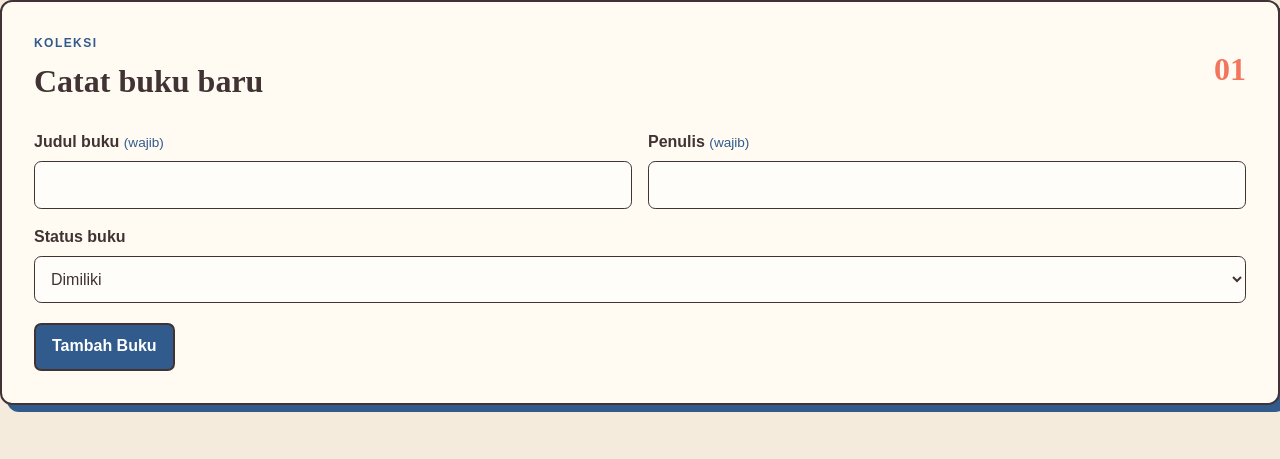
it: BookForm › menampilkan error jika penulis kosong
The image size is (1280, 459).
In the field labelled "Judul buku (wajib)": point(333, 185) [34, 161, 632, 209], type "Laut Bercerita"
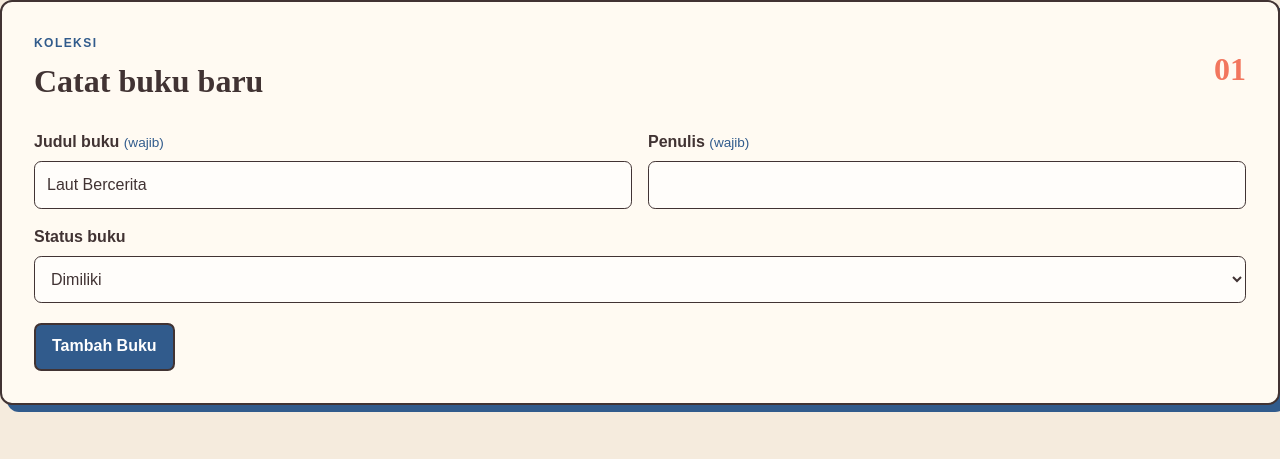
Click the button "Tambah Buku": point(104, 346) [34, 322, 175, 370]
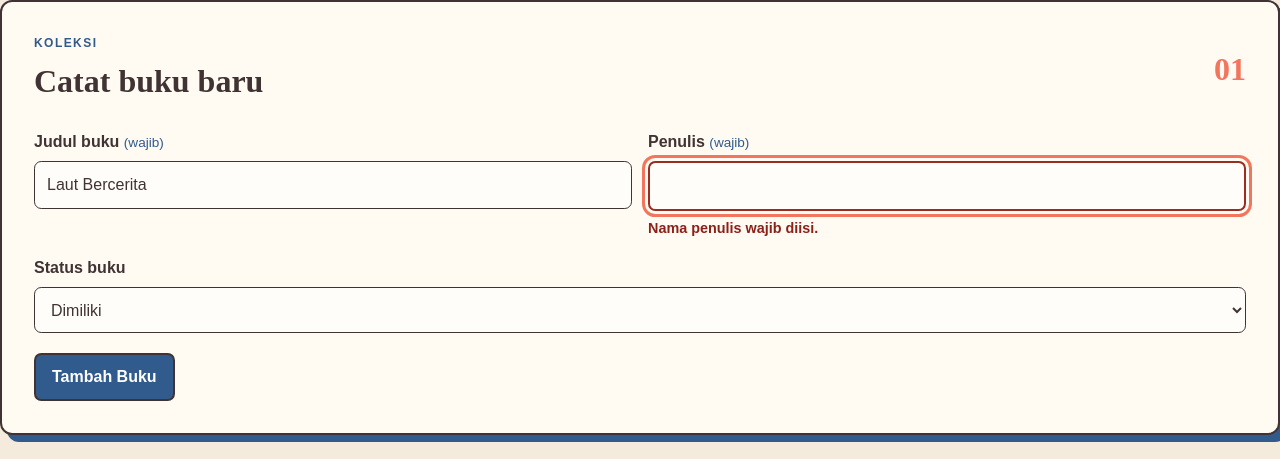
Result: the text "Nama penulis wajib diisi." is shown at [648, 220, 818, 236]
